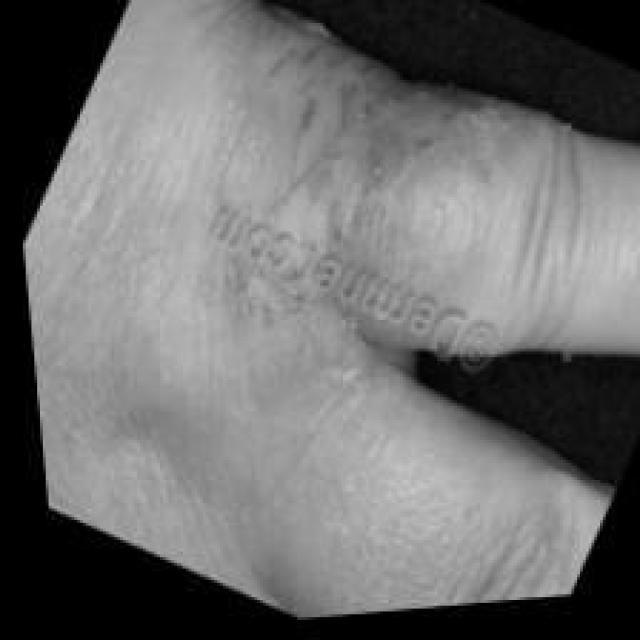Eczema: (218, 42, 563, 563)
